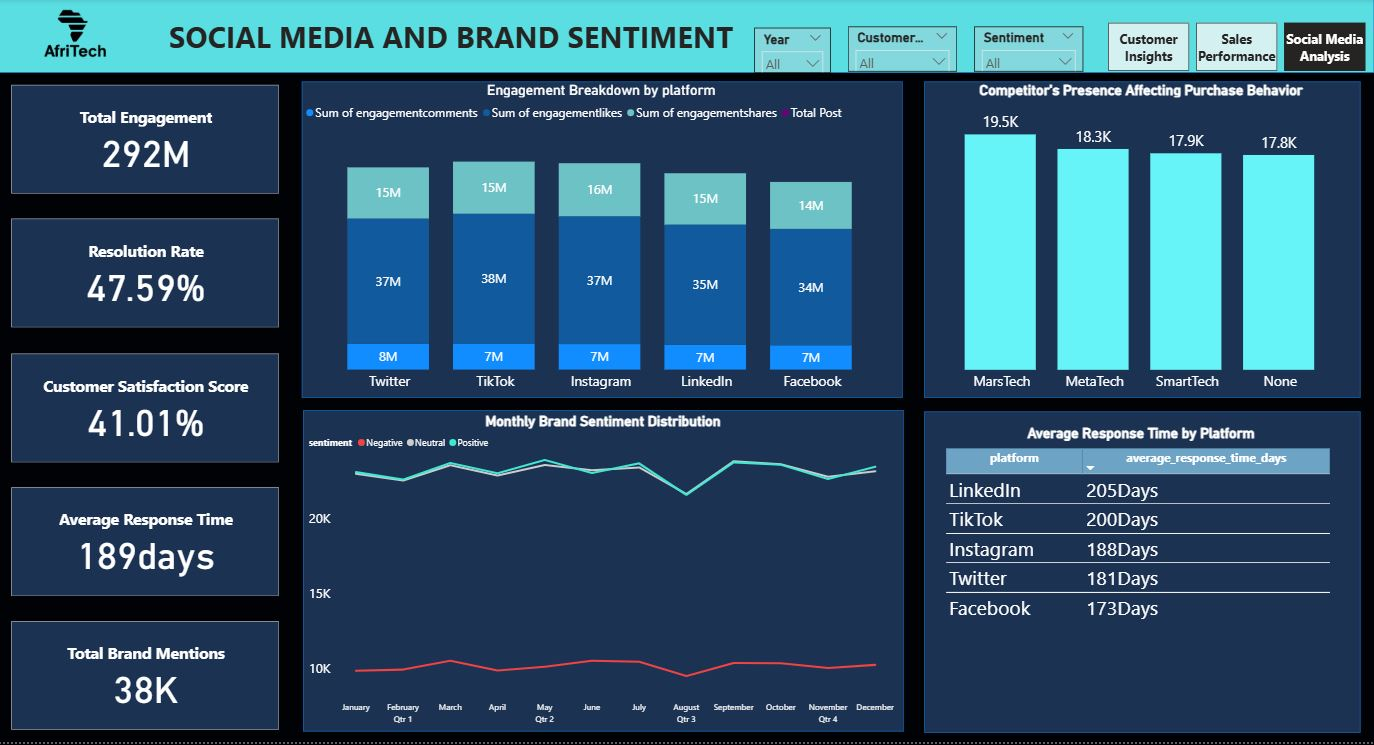

The page's visual inventory and layout, read from the dashboard file:
{"tool":"powerbi","page":{"name":"Social Media Analysis","canvas":[2000,1080],"ordinal":2},"visuals":[{"type":"shape","box":[0,0,2000.4,107.2],"z":0},{"type":"shape","box":[443.3,597.7,873.9,466.9],"z":1000},{"type":"shape","box":[1346.3,599.6,634.1,466.9],"z":2000},{"type":"shape","box":[1346.3,119.9,634.1,459.7],"z":3000},{"type":"shape","box":[441.5,119.9,873.9,459.7],"z":4000},{"type":"image","box":[0,0,221.7,105.4],"z":5000},{"type":"lineChart","title":"Monthly Brand Sentiment Distribution","fields":{"Category":["public transactiondata.transactiondate.Variation.Date Hierarchy.Quarter","public transactiondata.transactiondate.Variation.Date Hierarchy.Month"],"Y":["New Measures.Sentiment Count"],"Series":["public socialmedia.sentiment"]},"box":[446.9,601.4,864.8,466.9],"z":6000},{"type":"tableEx","title":"Average Response Time by Platform","fields":{"Values":["Query3.platform","Query3.average_response_time_days"]},"box":[1371.7,619.6,579.6,425.1],"z":7000},{"type":"clusteredColumnChart","title":"Competitor''s Presence Affecting Purchase Behavior","fields":{"Category":["Query2.competitor_x"],"Y":["Sum(Query2.mentions)"]},"box":[1346.3,119.9,630.5,459.7],"z":8000},{"type":"columnChart","title":"Engagement Breakdown by platform","fields":{"Y":["Sum(public socialmedia.engagementcomments)","Sum(public socialmedia.engagementlikes)","Sum(public socialmedia.engagementshares)","New Measures.Total Post"],"Category":["public socialmedia.platform"]},"box":[441.5,119.9,870.3,459.7],"z":9000},{"type":"textbox","box":[243.5,20,833.9,72.7],"z":10000},{"type":"cardVisual","fields":{"Data":["New Measures.Resolution Rate"]},"box":[14.5,314.8,399.7,169],"z":11000},{"type":"cardVisual","fields":{"Data":["New Measures.Total Brand Mentions"]},"box":[14.5,899.3,399.7,169],"z":12000},{"type":"cardVisual","fields":{"Data":["New Measures.Average Response Time"]},"box":[14.5,704.5,399.7,169],"z":13000},{"type":"cardVisual","fields":{"Data":["New Measures.Customer Satisfaction Score"]},"box":[14.5,509.6,399.7,169],"z":14000},{"type":"pageNavigator","box":[1613.4,34.5,374.3,70.9],"z":15000},{"type":"cardVisual","fields":{"Data":["New Measures.Total Engagement"]},"box":[14.5,119.9,399.7,169],"z":16000},{"type":"slicer","fields":{"Values":["public transactiondata.transactiondate.Variation.Date Hierarchy.Year"]},"box":[1099.2,41.8,110.8,65.4],"z":17000},{"type":"slicer","fields":{"Values":["public customerdata.customertype"]},"box":[1235.5,40,158.1,65.4],"z":18000},{"type":"slicer","fields":{"Values":["public socialmedia.sentiment"]},"box":[1419,40,158.1,65.4],"z":19000}]}

Visuals, with their boxes in screenshot pixels (x1, y1, x2, y2), scaled from the page's 2000x1080 canvas onto the 1374x745 screenshot:
shape: select_region(0, 0, 1373, 74)
shape: select_region(305, 412, 905, 734)
shape: select_region(925, 414, 1361, 736)
shape: select_region(925, 83, 1361, 400)
shape: select_region(303, 83, 904, 400)
image: select_region(0, 0, 152, 73)
"Monthly Brand Sentiment Distribution" lineChart: select_region(307, 415, 901, 737)
"Average Response Time by Platform" tableEx: select_region(942, 427, 1341, 721)
"Competitor''s Presence Affecting Purchase Behavior" clusteredColumnChart: select_region(925, 83, 1358, 400)
"Engagement Breakdown by platform" columnChart: select_region(303, 83, 901, 400)
textbox: select_region(167, 14, 740, 64)
cardVisual - New Measures.Resolution Rate: select_region(10, 217, 285, 334)
cardVisual - New Measures.Total Brand Mentions: select_region(10, 620, 285, 737)
cardVisual - New Measures.Average Response Time: select_region(10, 486, 285, 603)
cardVisual - New Measures.Customer Satisfaction Score: select_region(10, 352, 285, 468)
pageNavigator: select_region(1108, 24, 1366, 73)
cardVisual - New Measures.Total Engagement: select_region(10, 83, 285, 199)
slicer - public transactiondata.transactiondate.Variation.Date Hierarchy.Year: select_region(755, 29, 831, 74)
slicer - public customerdata.customertype: select_region(849, 28, 957, 73)
slicer - public socialmedia.sentiment: select_region(975, 28, 1083, 73)
